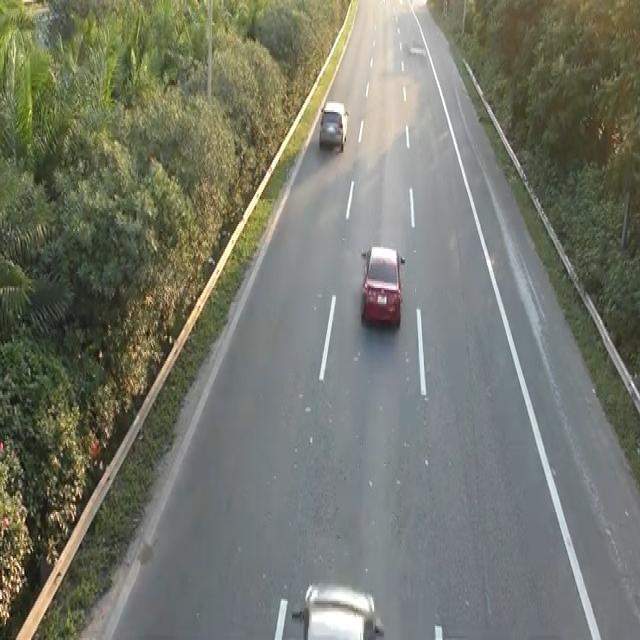bus: (272, 580, 385, 636), (358, 240, 405, 329)
car: (317, 98, 349, 151)
